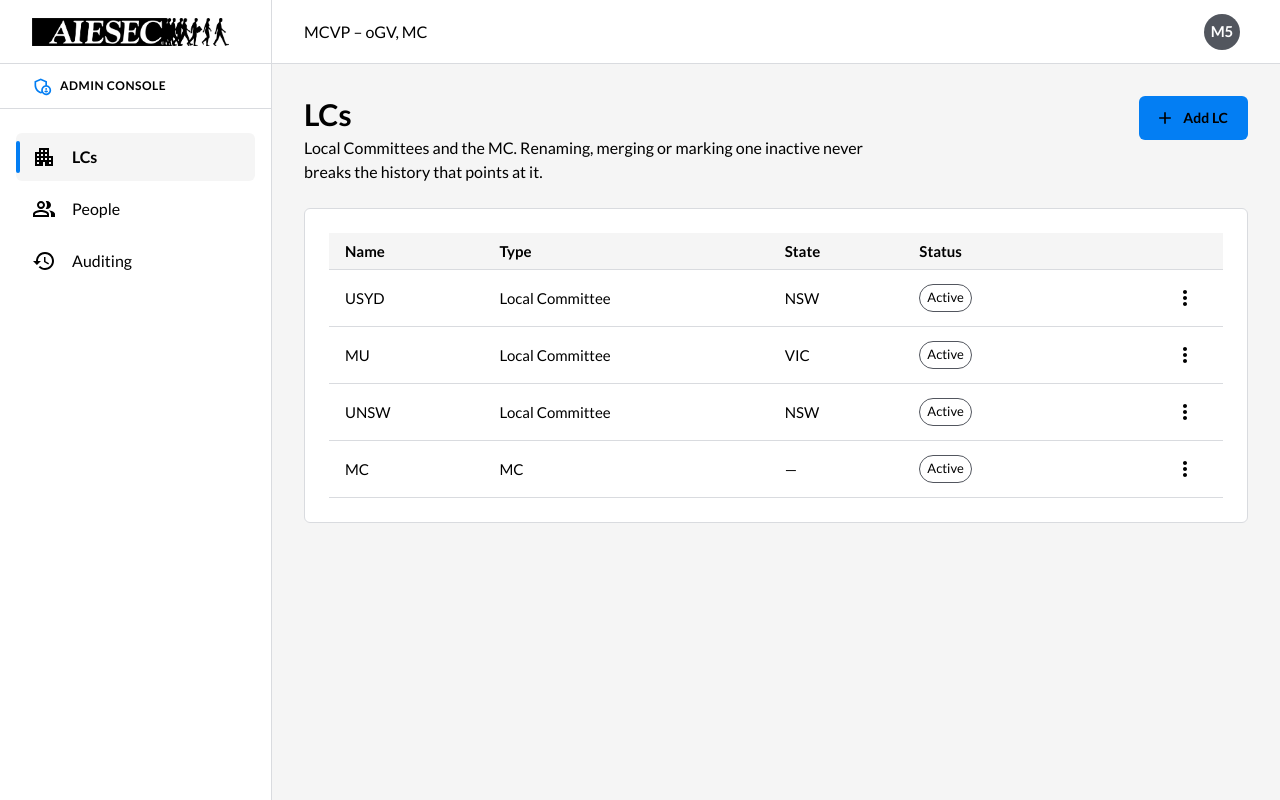
admin console screens › renames an LC
Click the button named "Actions for USYD" at (1185, 298), box [1163, 276, 1207, 320]
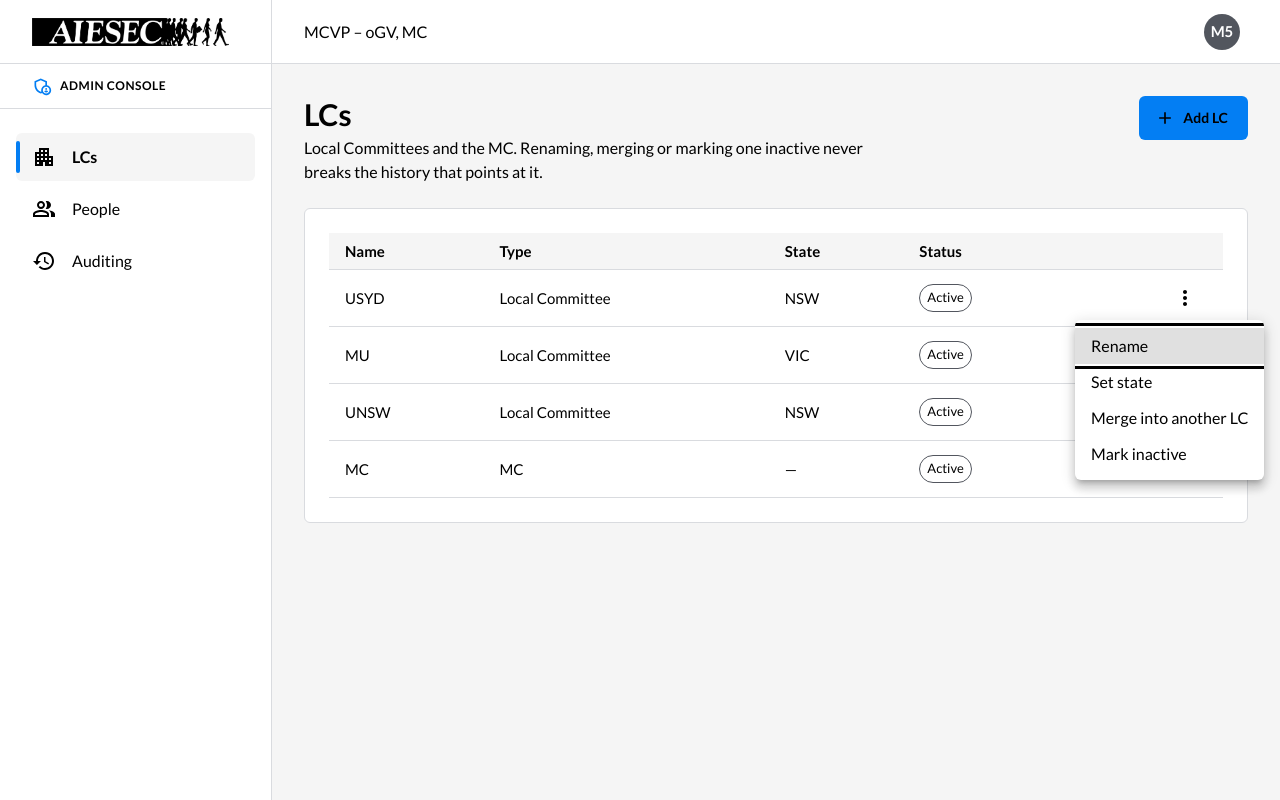
Click the menu item "Rename" at (1170, 346), box [1075, 328, 1264, 364]
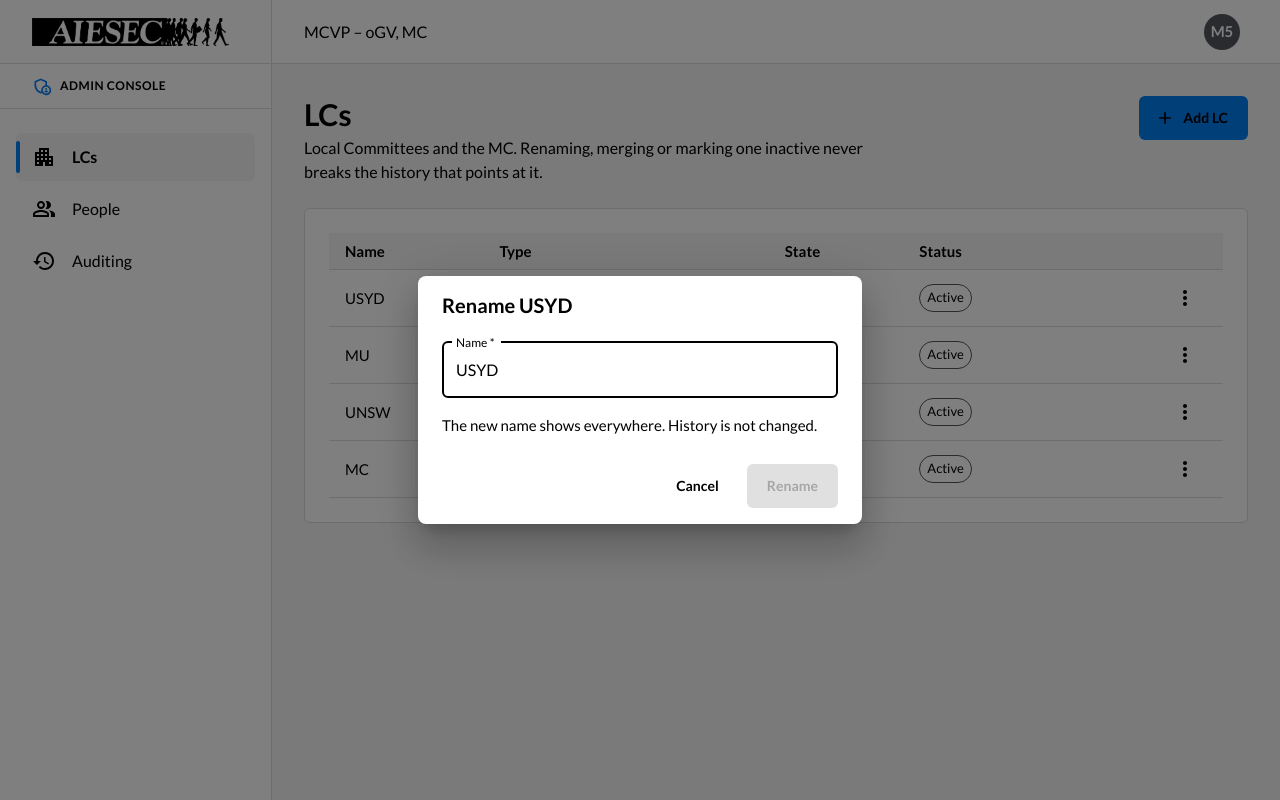
Replace the text in the field labelled "Name *" with "University of Sydney" at (640, 370), box [442, 342, 838, 398]
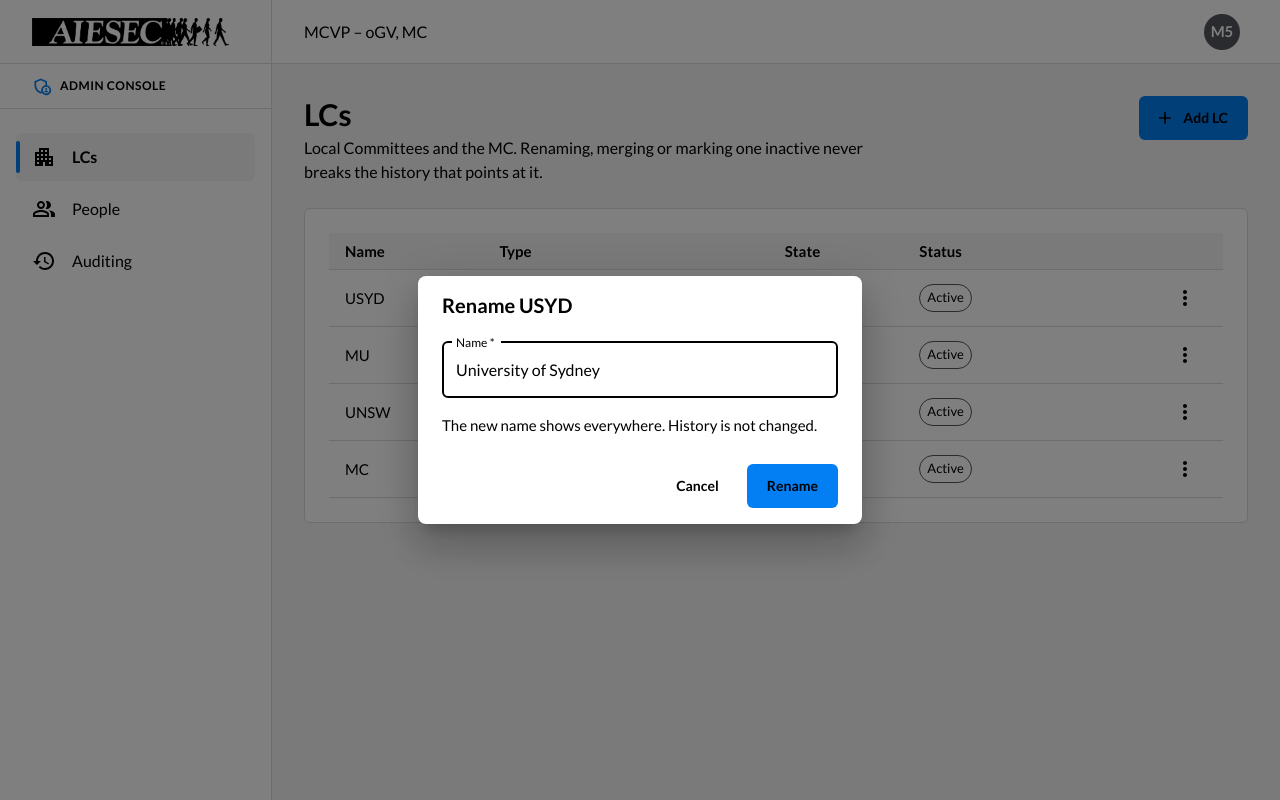
Click the button "Rename" at (792, 486), box [747, 464, 838, 508]
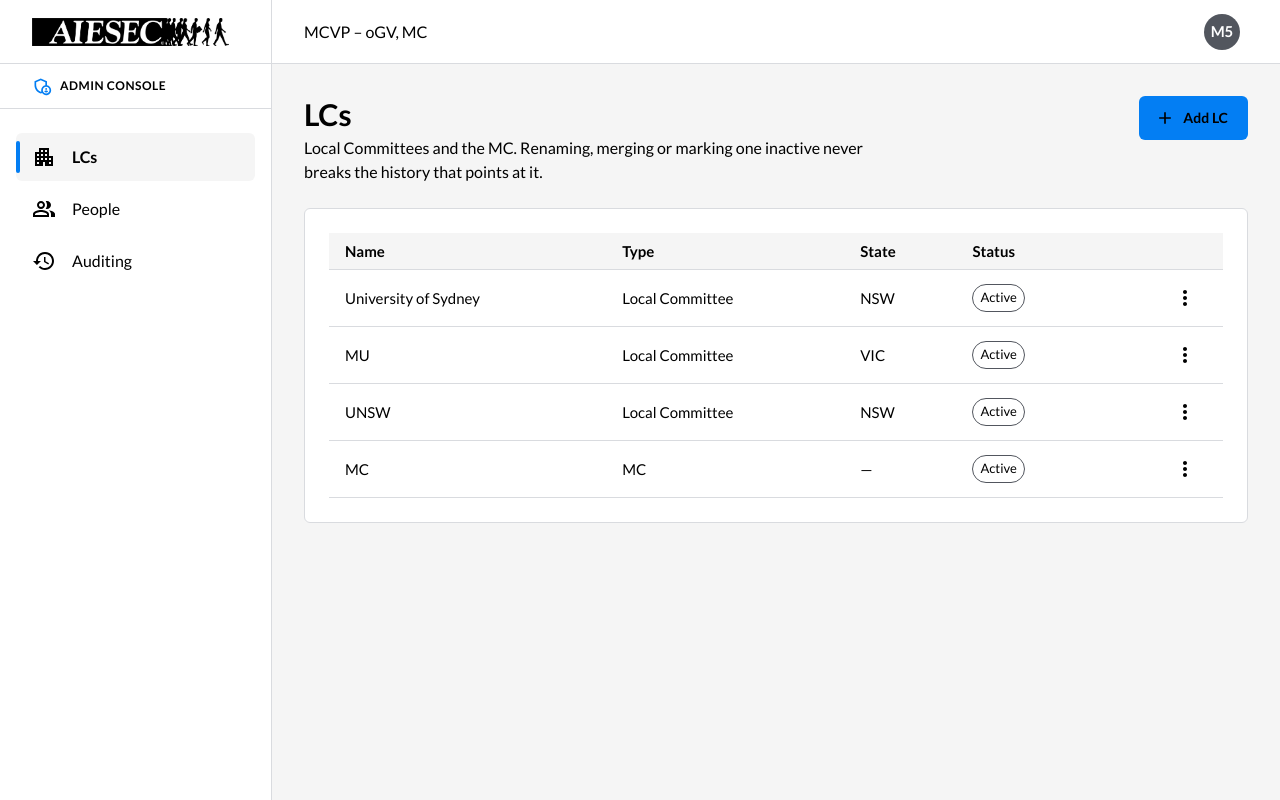
Expected: the text "University of Sydney" is shown, [329, 270, 606, 326]
